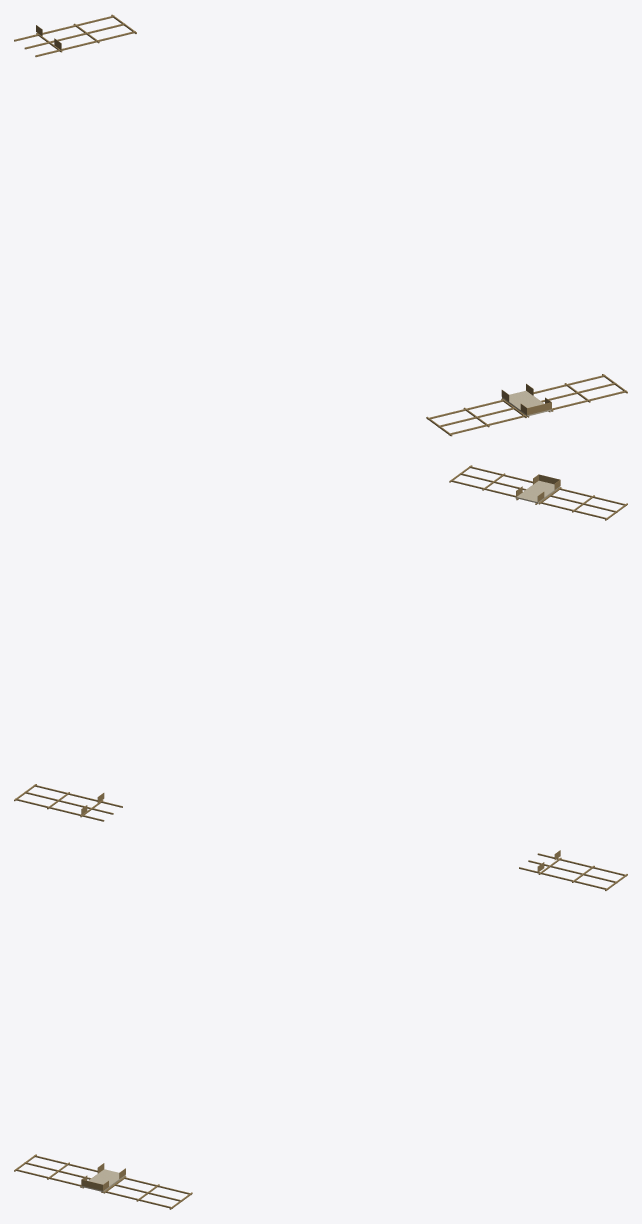
Rendered from StarAtlasSpecialtyNinthReceiving.glb.
The picture shows the model from 3 angles, top to bottom: view 1: azimuth 30°, elevation 25°; view 2: azimuth 150°, elevation 25°; view 3: azimuth 330°, elevation 25°; orthographic projection. The views are drawn at different scales.
Parts seen in each view (by area): view 1: no part large enough to name; view 2: SA_D13_NinthSouthStreetFloor; view 3: no part large enough to name.
Part boxes in pixels (bbox=[...]): SA_D13_NinthSouthStreetFloor: bbox=[516, 480, 560, 503].
Bounding box in the file's own units: 29.9 × 1.55 × 150.
Materials: 2 (2 with a texture image).
